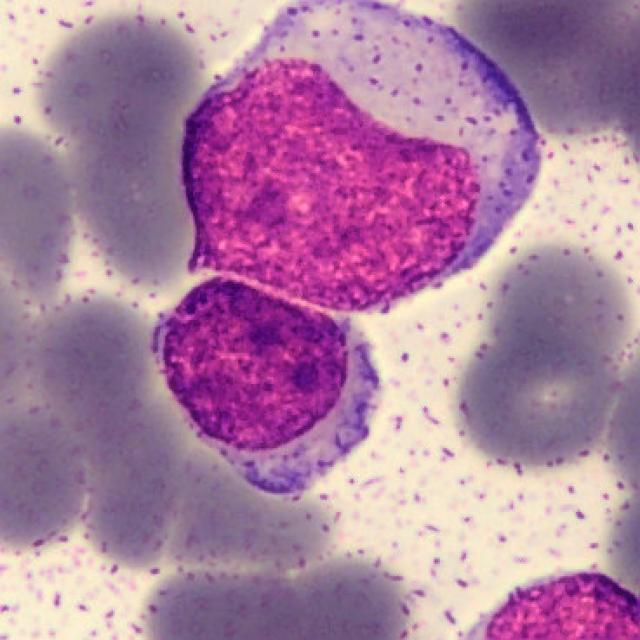Mieloblasto: (181, 5, 539, 315), (151, 277, 383, 500)
